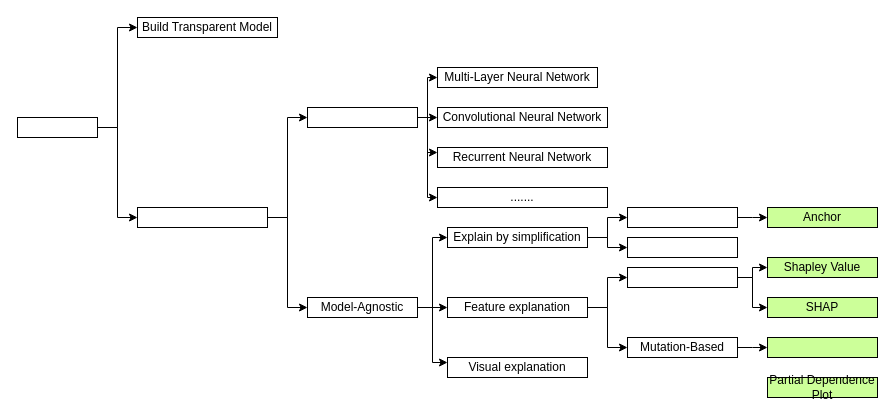
The diagram is 895 pixels wide and 419 high, and some of its shapes have lost their labels. The centre of each missing label's shape, as x and y in pixels:
"Accumulated Local Effects (ALE) Plot" belongs at (822,347).
"Decision Tree" belongs at (682,247).
"Masking-Based" belongs at (682,277).
"Model-Specific" belongs at (362,117).
"Post-Hoc Explanation" belongs at (202,217).
"Rule-based learner" belongs at (682,217).
"XAI" belongs at (57,127).
